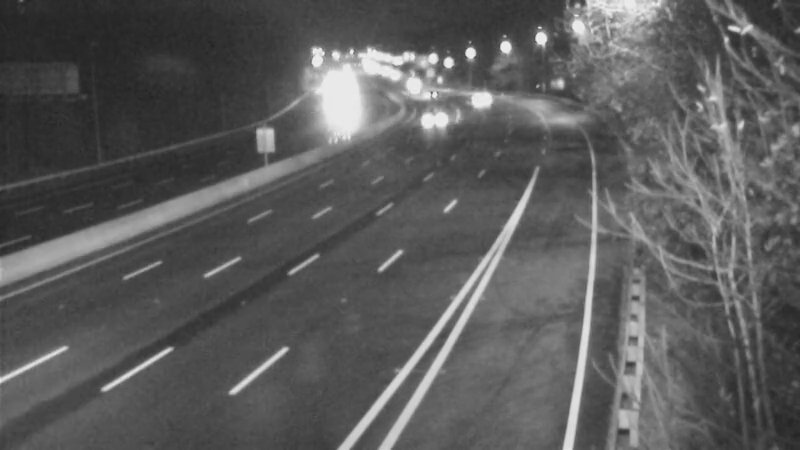vehicle: (388, 58, 438, 108), (402, 70, 452, 120), (452, 75, 502, 125), (410, 95, 460, 145), (306, 82, 356, 132)
